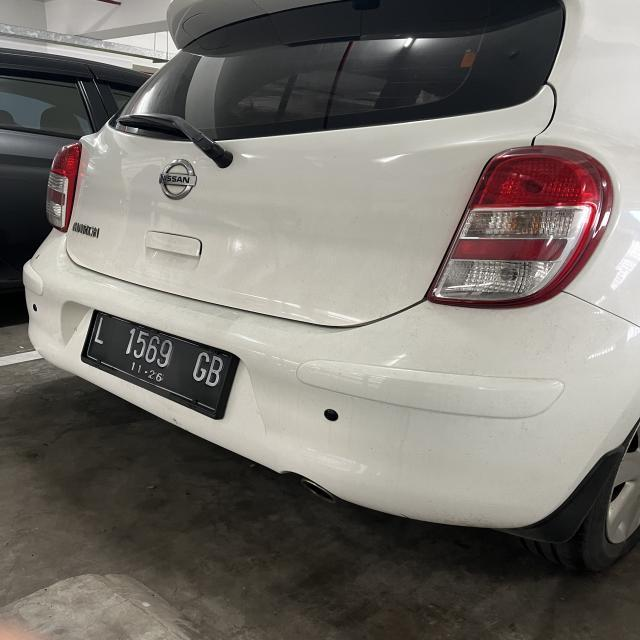1: (126, 326, 134, 356)
5: (134, 328, 145, 361)
6: (148, 332, 158, 364)
9: (160, 336, 172, 371)
B: (209, 354, 222, 387)
G: (195, 347, 208, 383), (160, 336, 173, 371)
L: (96, 314, 106, 346)
